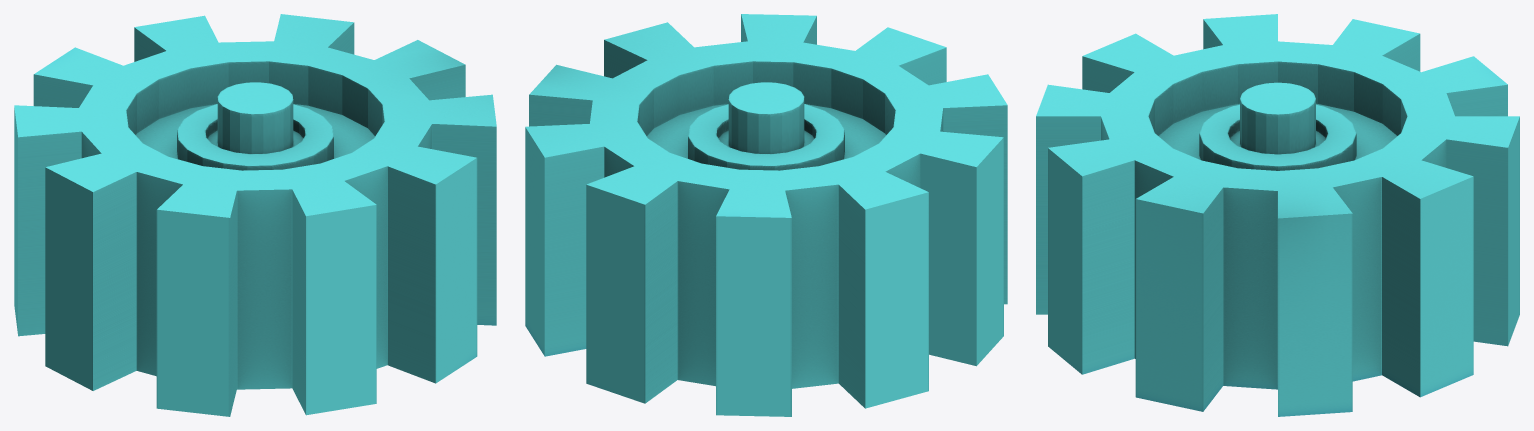
File: Gear.fbx
The picture shows the model from 3 angles, left to right: view 1: azimuth 30°, elevation 25°; view 2: azimuth 150°, elevation 25°; view 3: azimuth 270°, elevation 25°; orthographic projection.
Visible parts, largest first — view 1: Gear; view 2: Gear; view 3: Gear.
Boxes of the visible parts, box(x1,y1,x2,y2) form: Gear: box(14, 14, 496, 416); Gear: box(525, 14, 1007, 416); Gear: box(1036, 14, 1519, 416).
Size of the model in its own units: 1909 by 1044 by 1909.
